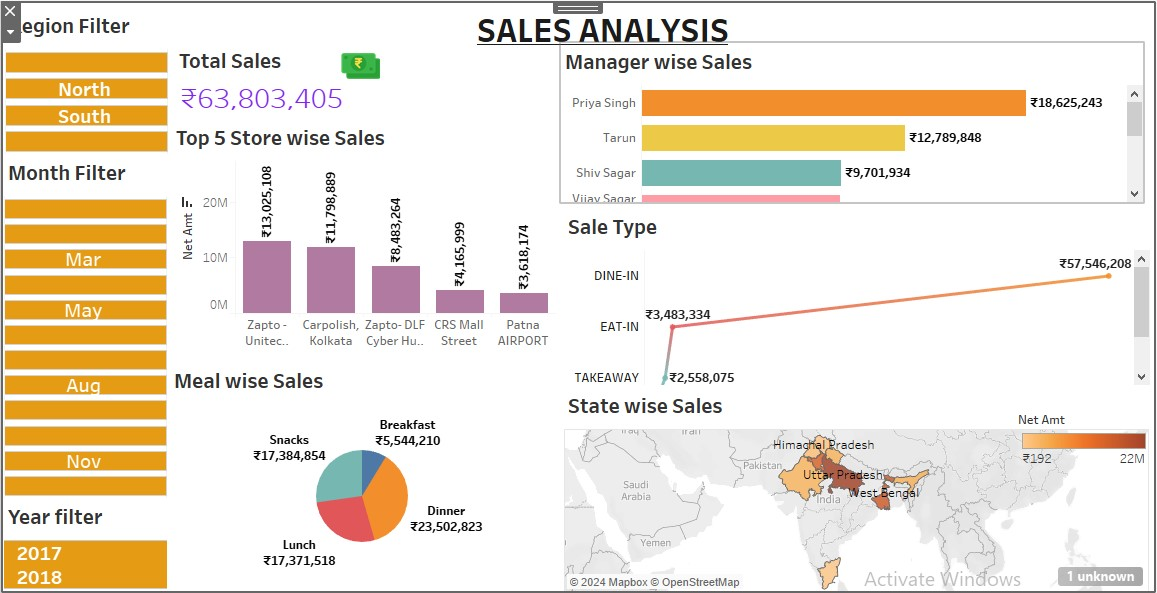

This screenshot's page, from the dashboard's own definition file:
{"tool":"tableau","page":{"name":"Dashboard 2","canvas":[1000,1000],"units":"permille","ordinal":0},"visuals":[{"type":"text","box":[0,0,1000,1000]},{"type":"text","box":[278.3,3.7,486.6,87.9]},{"type":"worksheet","title":"Region Filter","mark":"Automatic","rows":["Region"],"cols":["Calculation_956663120196493321"],"box":[3.2,9.9,279.9,248.8]},{"type":"worksheet","title":"Total Sales","mark":"Automatic","box":[150.5,69.3,240,116.3]},{"type":"worksheet","title":"Manager wise Sales","mark":"Automatic","rows":["Store Maneger"],"cols":["Net Amt"],"box":[484.9,71.8,503.7,268.6]},{"type":"image","param":"Image/money.png","box":[294.6,75.5,83.8,65.6]},{"type":"worksheet","title":"Store wise Sales","mark":"Bar","rows":["Net Amt"],"cols":["Store Name"],"box":[148.1,199.3,332.8,394.8]},{"type":"worksheet","title":"Month Filter","mark":"Automatic","rows":["Month"],"cols":["Calculation_956663120198422539"],"box":[2.4,258.7,280.7,580.5]},{"type":"worksheet","title":"Sales TYpe","mark":"Line","rows":["Sales Type"],"cols":["Net Amt"],"box":[487.4,350.2,507.7,299.5]},{"type":"worksheet","title":"Meal wise Sales","mark":"Pie","box":[146.5,610.1,332.8,382.4]},{"type":"worksheet","title":"State wise","mark":"Automatic","box":[487.4,652.2,506.9,346.5]},{"type":"legend","title":"State wise","param":"[federated.0wrd7ro08w9w9411kd3cq0ofwfcc].[sum:Net Amt:qk]","box":[880.4,693.1,113.9,94.1]},{"type":"worksheet","title":"Year filter","mark":"Automatic","rows":["Date"],"box":[2.4,840.4,141.6,153.5]}]}

Visuals, with their boxes on the dashboard's canvas, which has no fixed pixel size, in thousandths of its width and height (x1, y1, x2, y2). These are canvas units, not pixel positions in the 1157x593 screenshot, which may show the page scaled, cropped or inside an application window:
text: <bbox>0, 0, 1000, 1000</bbox>
text: <bbox>278, 4, 765, 92</bbox>
"Region Filter" worksheet: <bbox>3, 10, 283, 259</bbox>
"Total Sales" worksheet: <bbox>150, 69, 390, 186</bbox>
"Manager wise Sales" worksheet: <bbox>485, 72, 989, 340</bbox>
image: <bbox>295, 76, 378, 141</bbox>
"Store wise Sales" worksheet (Bar marks): <bbox>148, 199, 481, 594</bbox>
"Month Filter" worksheet: <bbox>2, 259, 283, 839</bbox>
"Sales TYpe" worksheet (Line marks): <bbox>487, 350, 995, 650</bbox>
"Meal wise Sales" worksheet (Pie marks): <bbox>146, 610, 479, 992</bbox>
"State wise" worksheet: <bbox>487, 652, 994, 999</bbox>
"State wise" legend: <bbox>880, 693, 994, 787</bbox>
"Year filter" worksheet: <bbox>2, 840, 144, 994</bbox>
